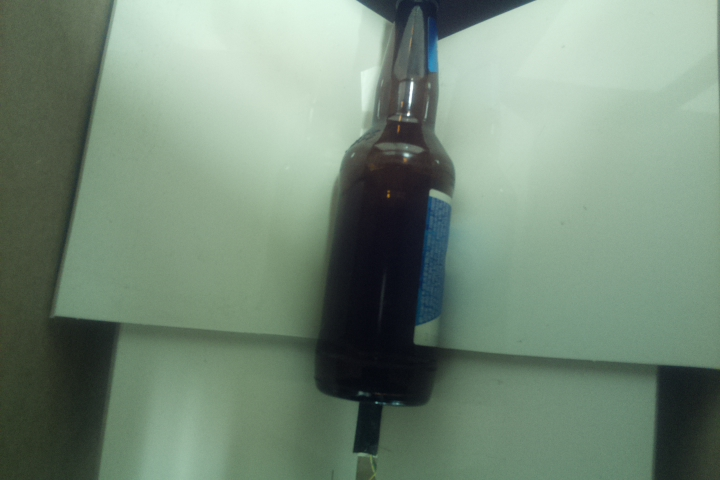makju: (313, 1, 456, 409)
